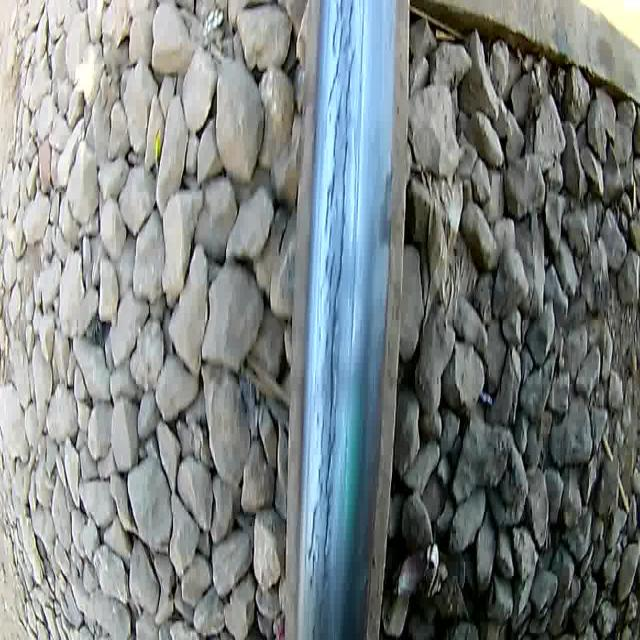Cracks: (302, 0, 359, 640)
Grooves: (339, 0, 370, 504)
